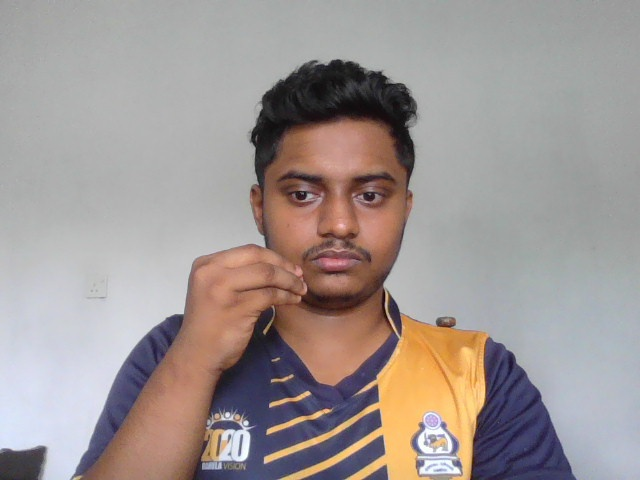Eat: (183, 242, 322, 367)
